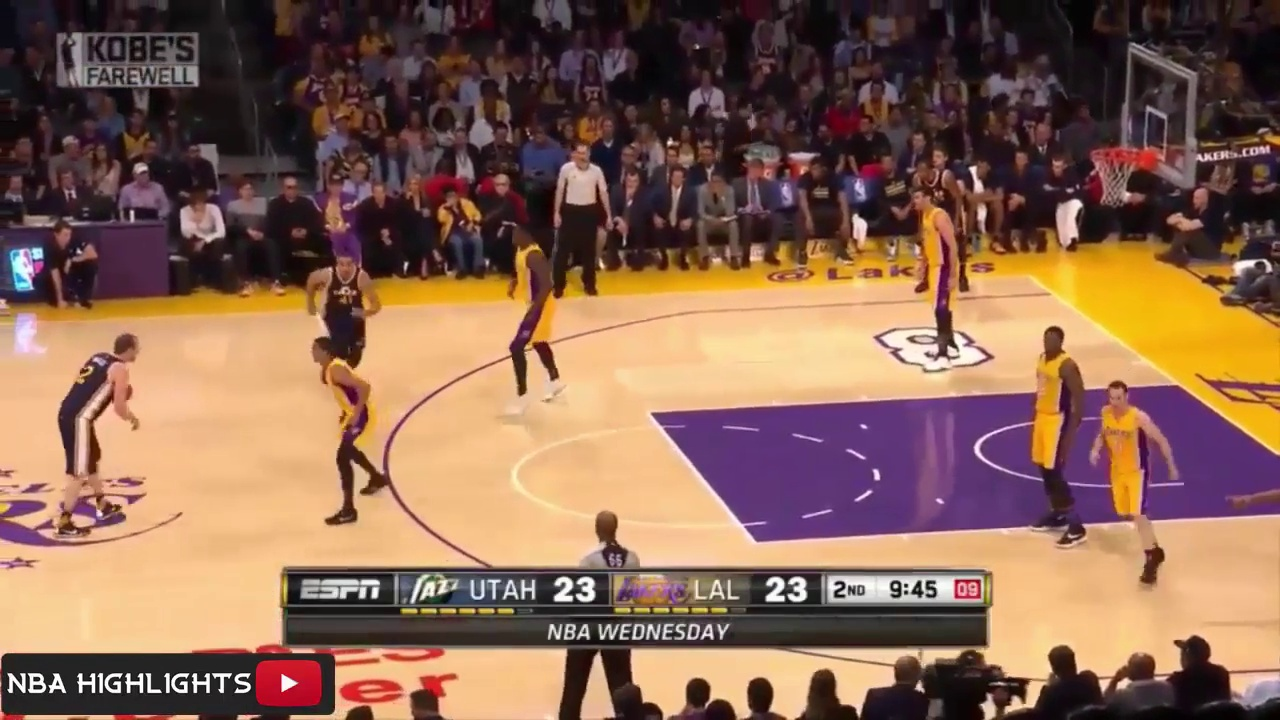jazz: (49, 331, 157, 538), (308, 253, 373, 365), (920, 164, 971, 286)
lakers: (1083, 377, 1181, 585), (300, 338, 392, 525), (1023, 323, 1094, 550), (500, 223, 565, 406), (911, 189, 961, 370)
